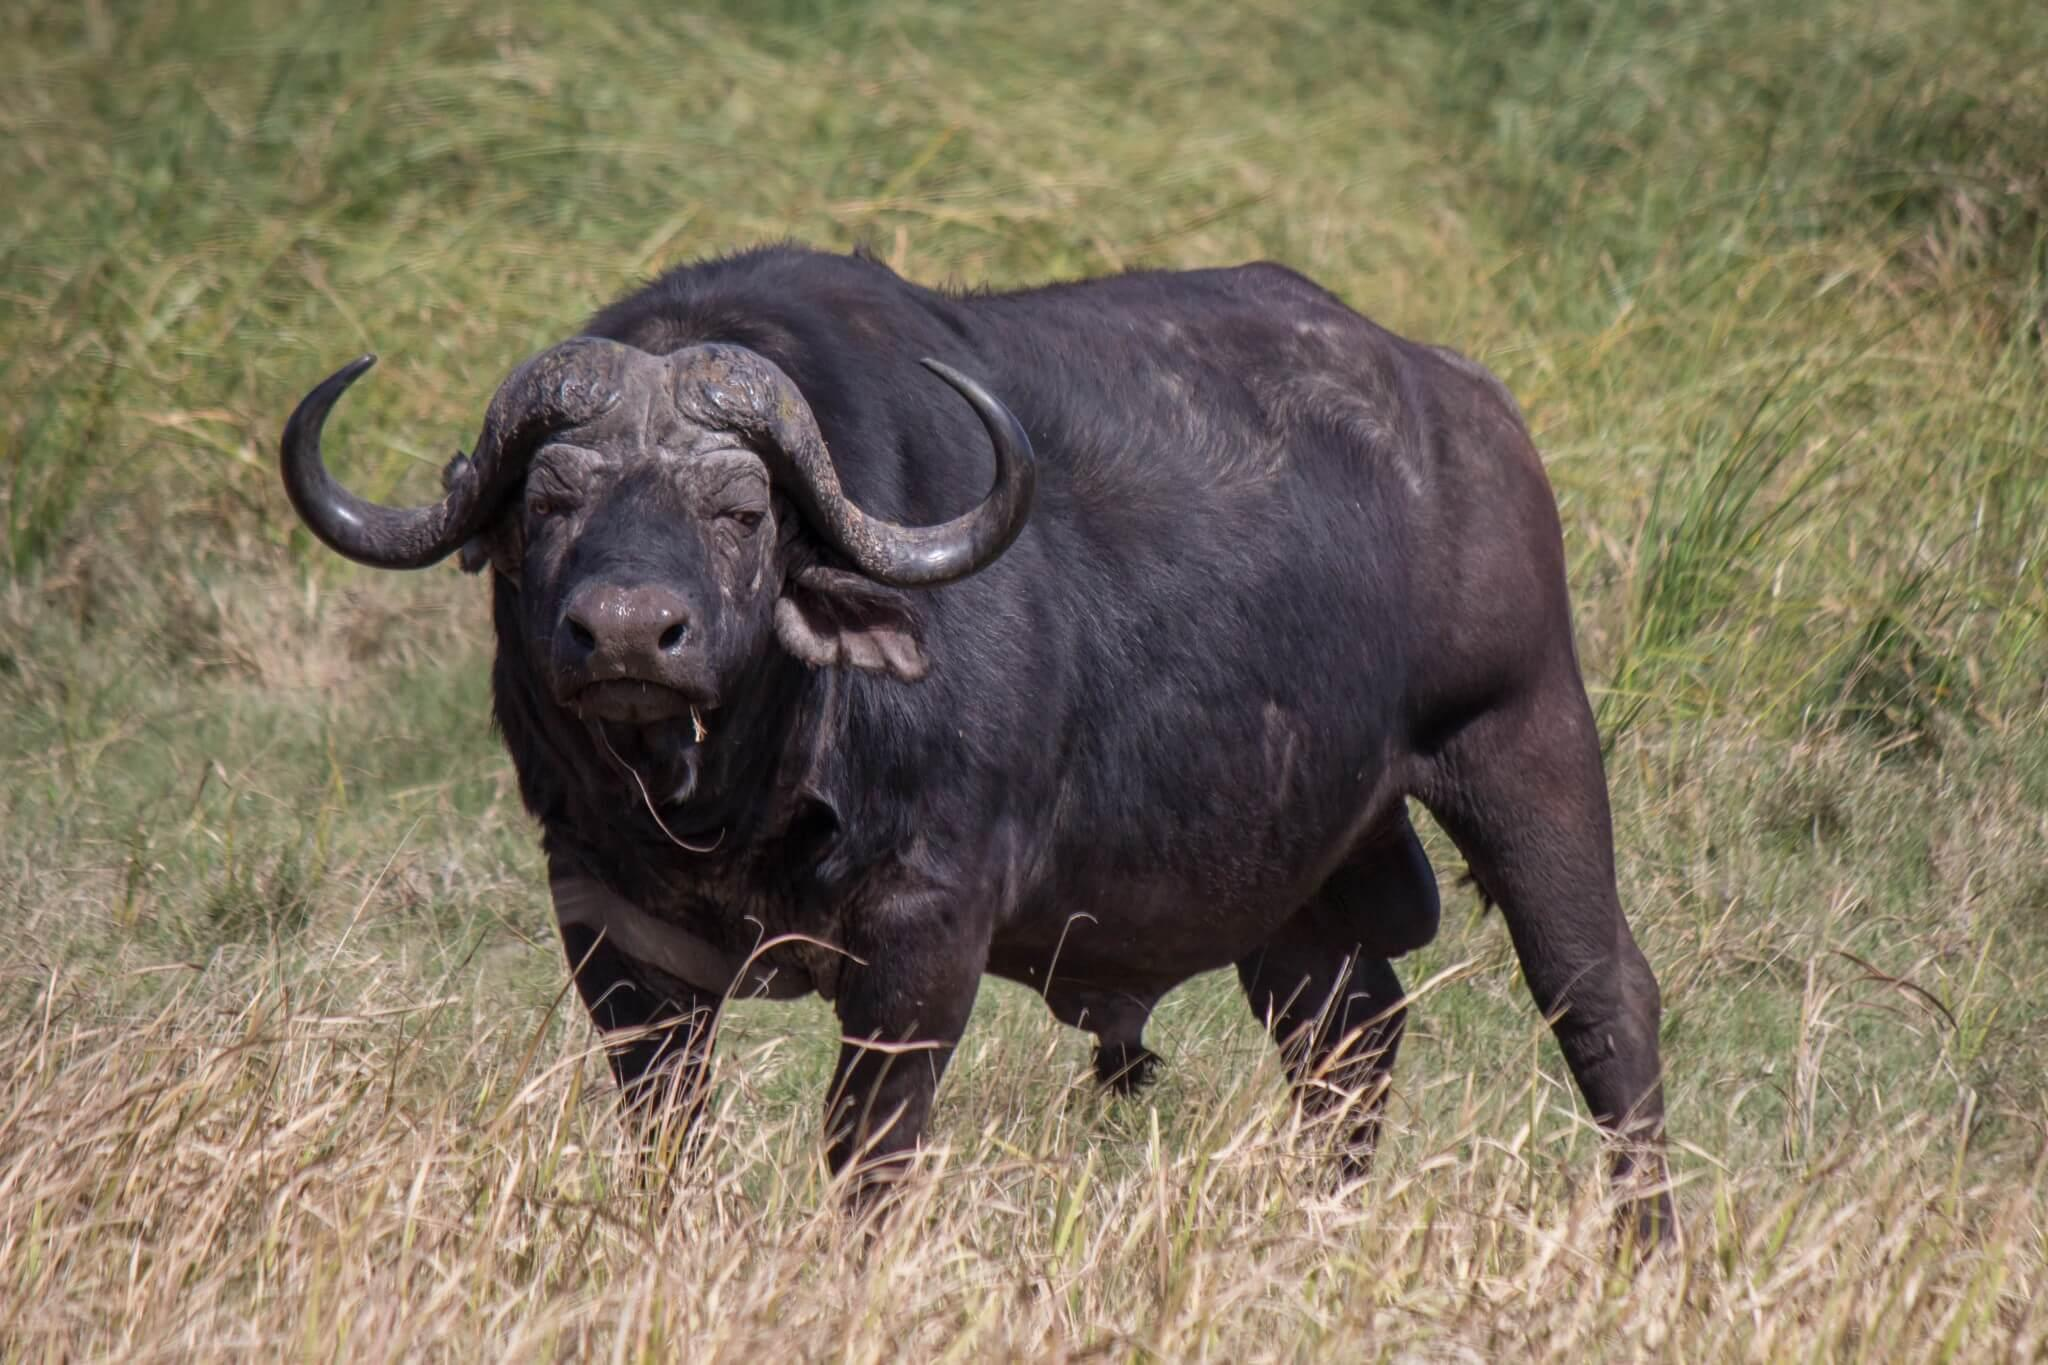Buffalo: (330, 151, 1667, 1143)
